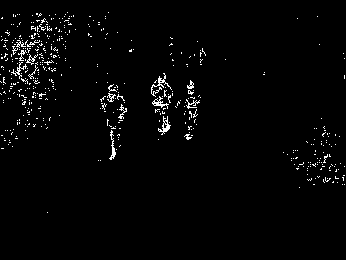person: (100, 81, 128, 161), (174, 79, 202, 142), (149, 72, 173, 136)
